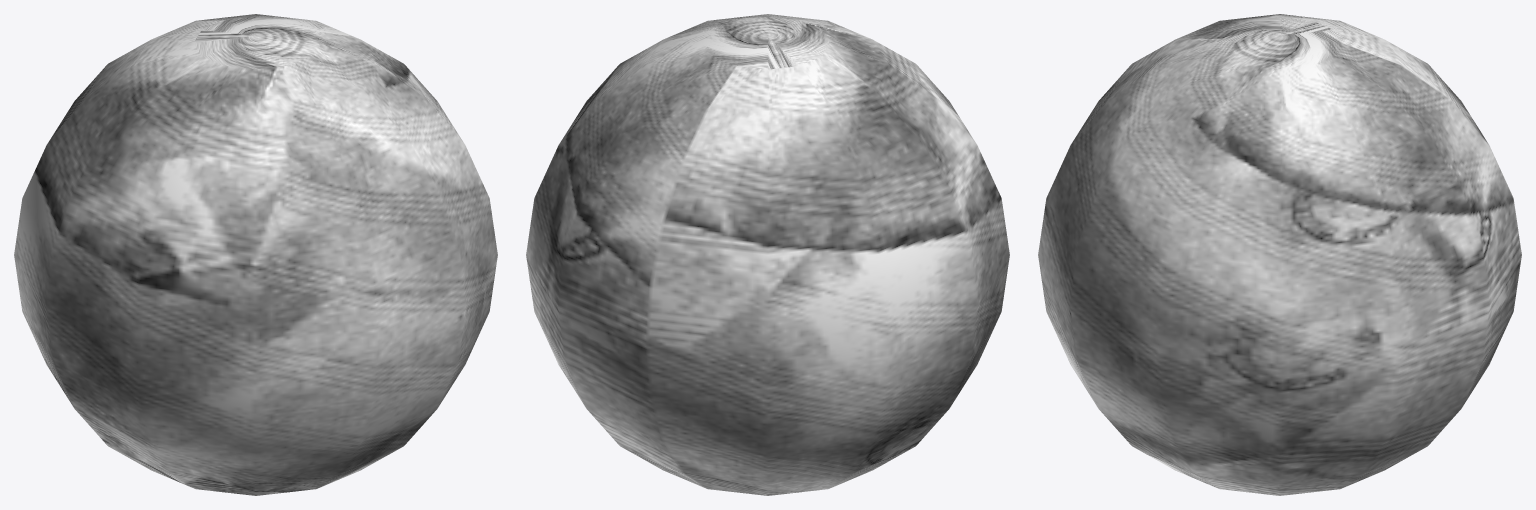
The model's file is paper.obj.
3 renders of one model, left to right at view 1: azimuth 30°, elevation 25°; view 2: azimuth 150°, elevation 25°; view 3: azimuth 270°, elevation 25°, orthographic.
Bounding box in the file's own units: 0.5 × 0.5 × 0.5.
1 material, 1 textured.
